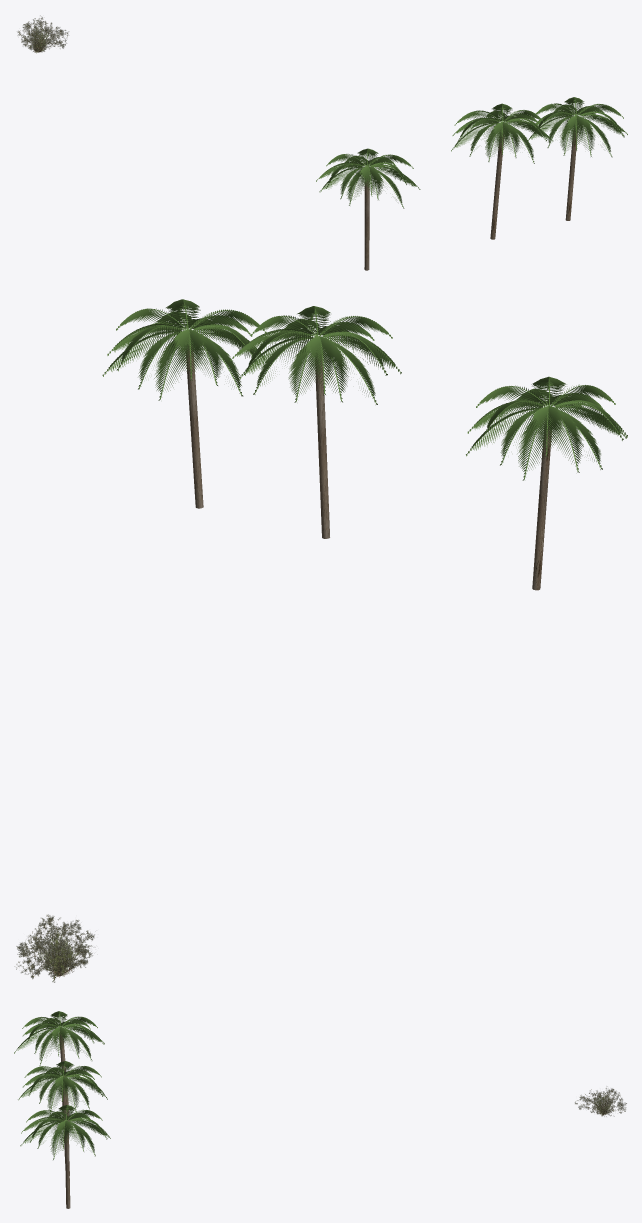
Rendered from plantas.glb.
The picture shows the model from 3 angles, top to bottom: view 1: azimuth 30°, elevation 25°; view 2: azimuth 150°, elevation 25°; view 3: azimuth 270°, elevation 25°; orthographic projection. The views are drawn at different scales.
Parts seen in each view (by area): view 1: Palmera frondas.002, Palmera frondas.001, Palmera frondas, especie_searsia_burchellii_large, Palmera tronco.002, Palmera tronco, Palmera tronco.001, especie_searsia_burchellii_medium; view 2: Palmera frondas.002, Palmera frondas, Palmera frondas.001, especie_searsia_burchellii_large, Palmera tronco.002, Palmera tronco, Palmera tronco.001, especie_searsia_burchellii_medium; view 3: Palmera frondas.001, Palmera frondas.002, Palmera frondas, especie_searsia_burchellii_large, Palmera tronco.001.
Part boxes in pixels (box(x1,y1,x2,y2)): Palmera frondas.002: box(451, 103, 553, 163); Palmera frondas.001: box(528, 97, 627, 157); Palmera frondas: box(316, 148, 420, 208); especie_searsia_burchellii_large: box(17, 15, 68, 51); Palmera tronco.002: box(490, 134, 503, 239); Palmera tronco: box(364, 179, 369, 270); Palmera tronco.001: box(565, 130, 577, 220); especie_searsia_burchellii_medium: box(21, 21, 57, 49); Palmera frondas.002: box(230, 306, 401, 404); Palmera frondas: box(466, 376, 627, 480); Palmera frondas.001: box(102, 299, 266, 400); especie_searsia_burchellii_large: box(14, 914, 94, 979); Palmera tronco.002: box(315, 337, 329, 538); Palmera tronco: box(532, 423, 551, 590); Palmera tronco.001: box(185, 346, 203, 508); especie_searsia_burchellii_medium: box(31, 929, 88, 974); Palmera frondas.001: box(20, 1105, 110, 1159); Palmera frondas.002: box(18, 1061, 107, 1113); Palmera frondas: box(14, 1011, 104, 1065); especie_searsia_burchellii_large: box(575, 1088, 626, 1116); Palmera tronco.001: box(64, 1132, 70, 1208).
Bounding box in the file's own units: 28.29 × 11.38 × 57.33.
Materials: 7 (6 with a texture image).
